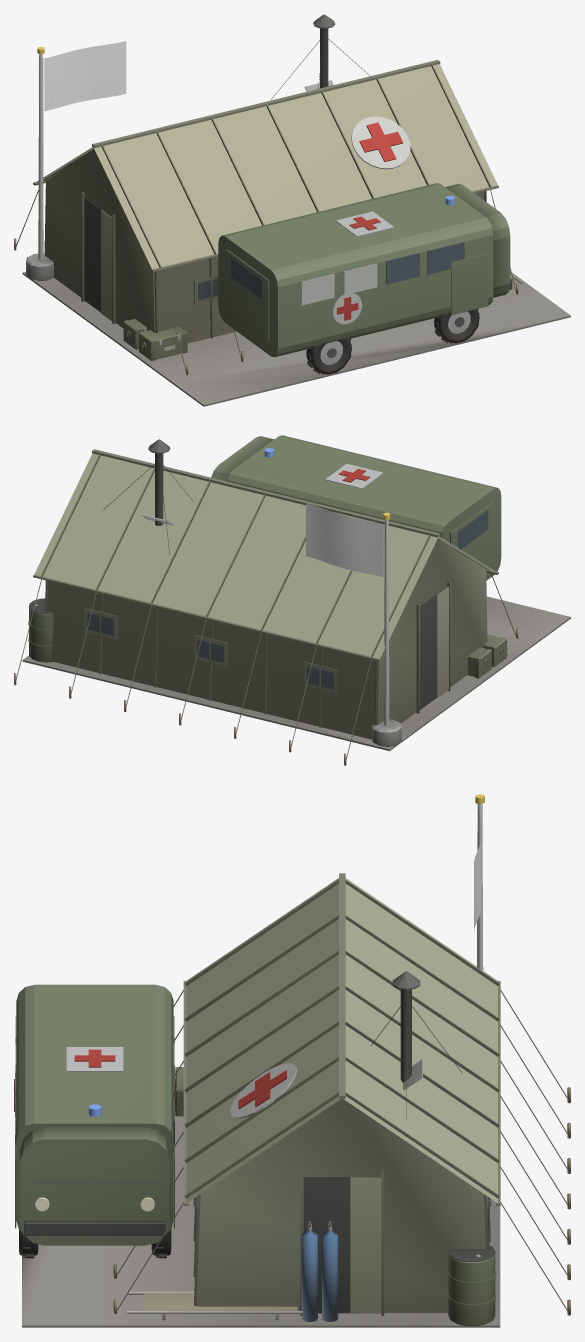
The model's file is struct_hospital_rus.glb.
3 views of the same model, one above another, from view 1: azimuth 30°, elevation 25°; view 2: azimuth 150°, elevation 25°; view 3: azimuth 270°, elevation 25° (orthographic). The views are drawn at different scales.
Visible parts, largest first — view 1: struct_hospital_rus; view 2: struct_hospital_rus; view 3: struct_hospital_rus.
Part boxes in pixels (x1=…): struct_hospital_rus: x1=14, y1=14, x2=570, y2=406; struct_hospital_rus: x1=14, y1=435, x2=570, y2=765; struct_hospital_rus: x1=14, y1=794, x2=570, y2=1327.
Size of the model in its own units: 6.98 by 4.11 by 6.87.
